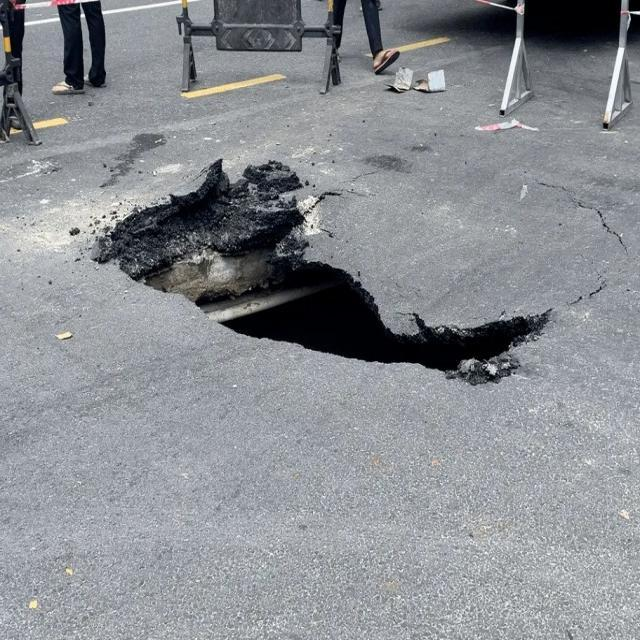Buraco: (83, 156, 557, 390)
